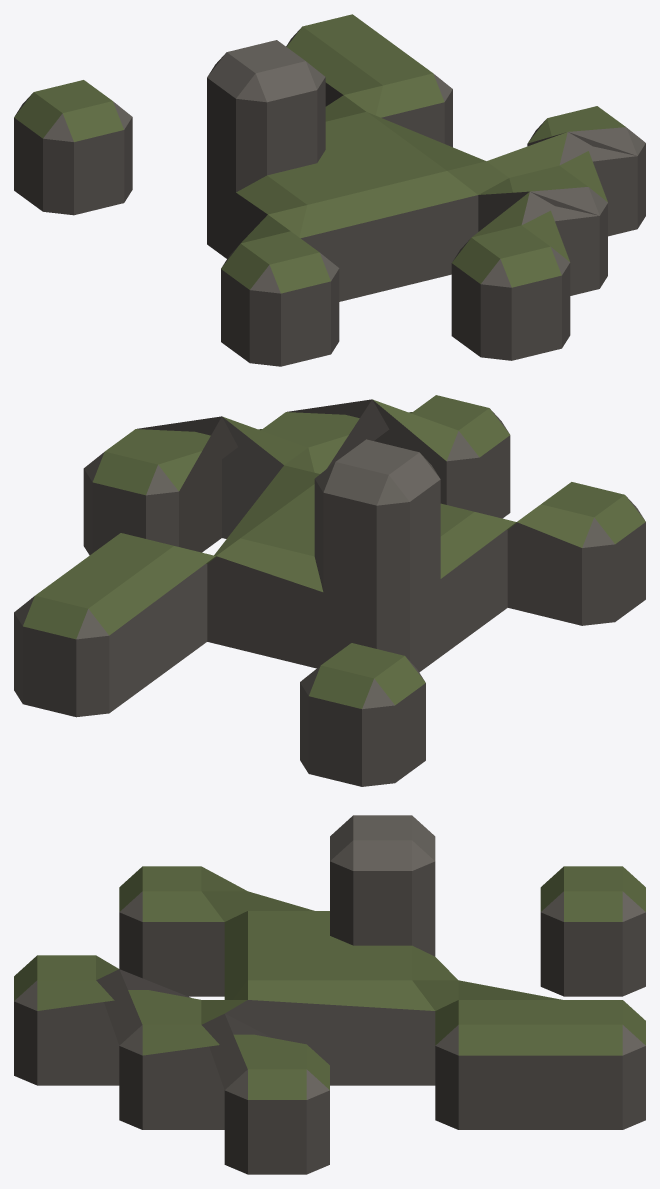
File: stone_debris_fine_scatter.glb
The picture shows the model from 3 angles, top to bottom: view 1: azimuth 30°, elevation 25°; view 2: azimuth 150°, elevation 25°; view 3: azimuth 270°, elevation 25°; orthographic projection. The views are drawn at different scales.
Parts seen in each view (by area): view 1: stone_debris_fine_scatter; view 2: stone_debris_fine_scatter; view 3: stone_debris_fine_scatter.
Boxes of the visible parts, x1,y1,x2,y2 form: stone_debris_fine_scatter: (14, 14, 645, 366); stone_debris_fine_scatter: (14, 395, 645, 786); stone_debris_fine_scatter: (14, 815, 645, 1174).
Bounding box in the file's own units: 0.5 × 0.2 × 0.6.
Materials: 1 (1 with a texture image).
